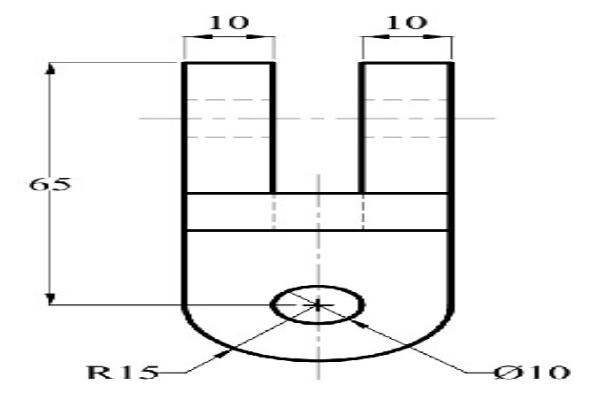dimensions: (79, 353, 162, 382), (492, 358, 572, 383), (207, 6, 251, 35), (383, 10, 433, 34), (25, 172, 73, 195)
